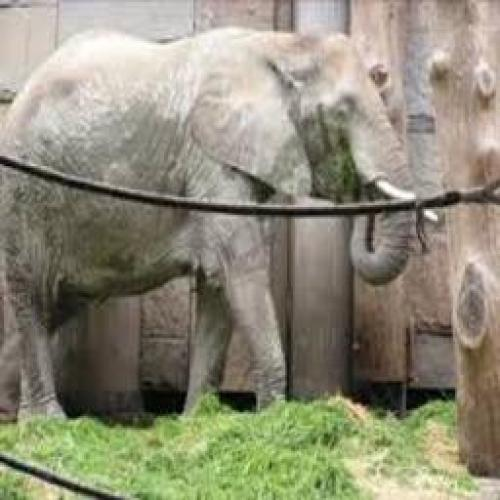african_elephant-endangered: (5, 29, 423, 431)
